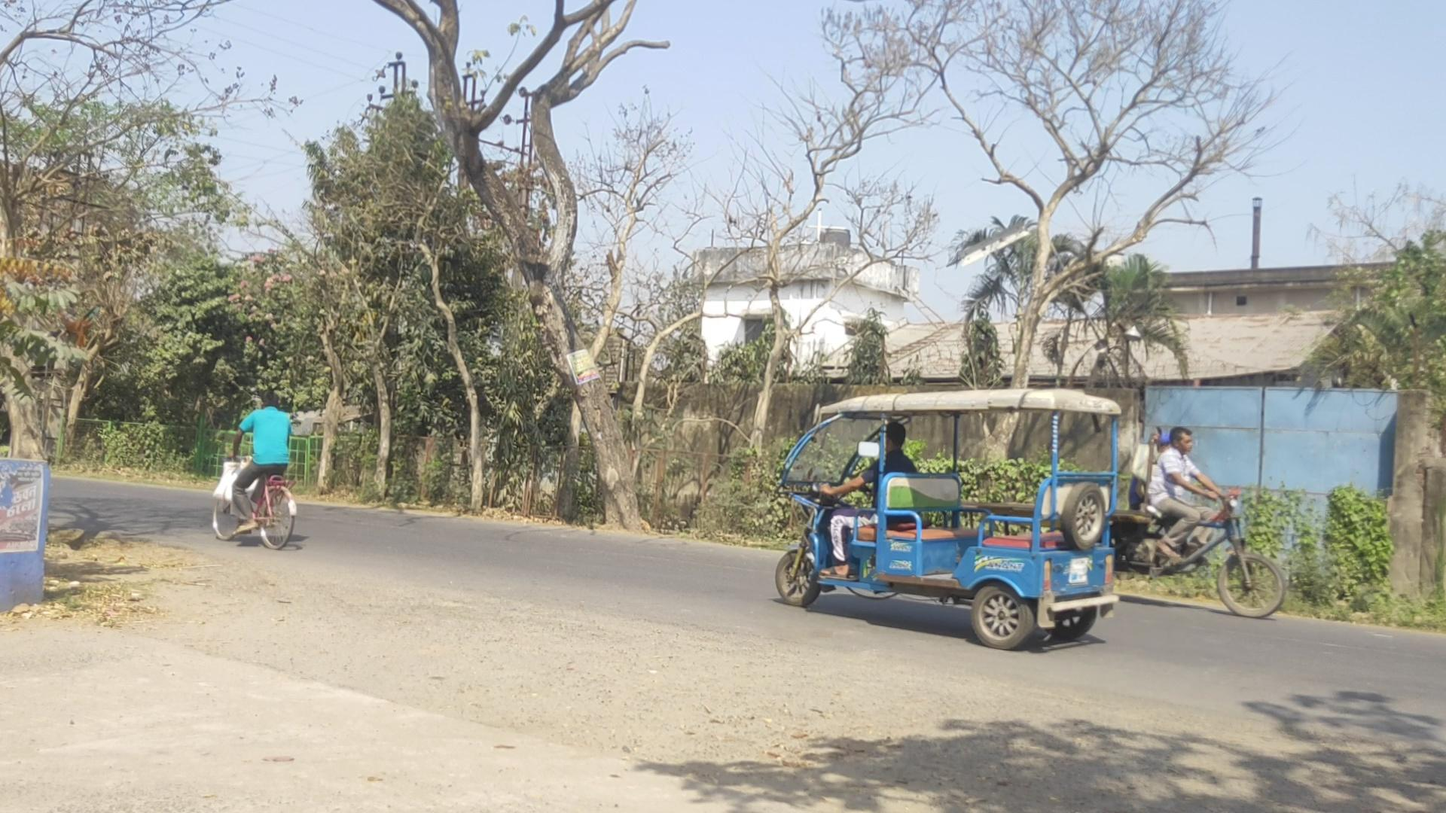Auto: (775, 387, 1121, 650)
bike: (212, 391, 297, 550)
